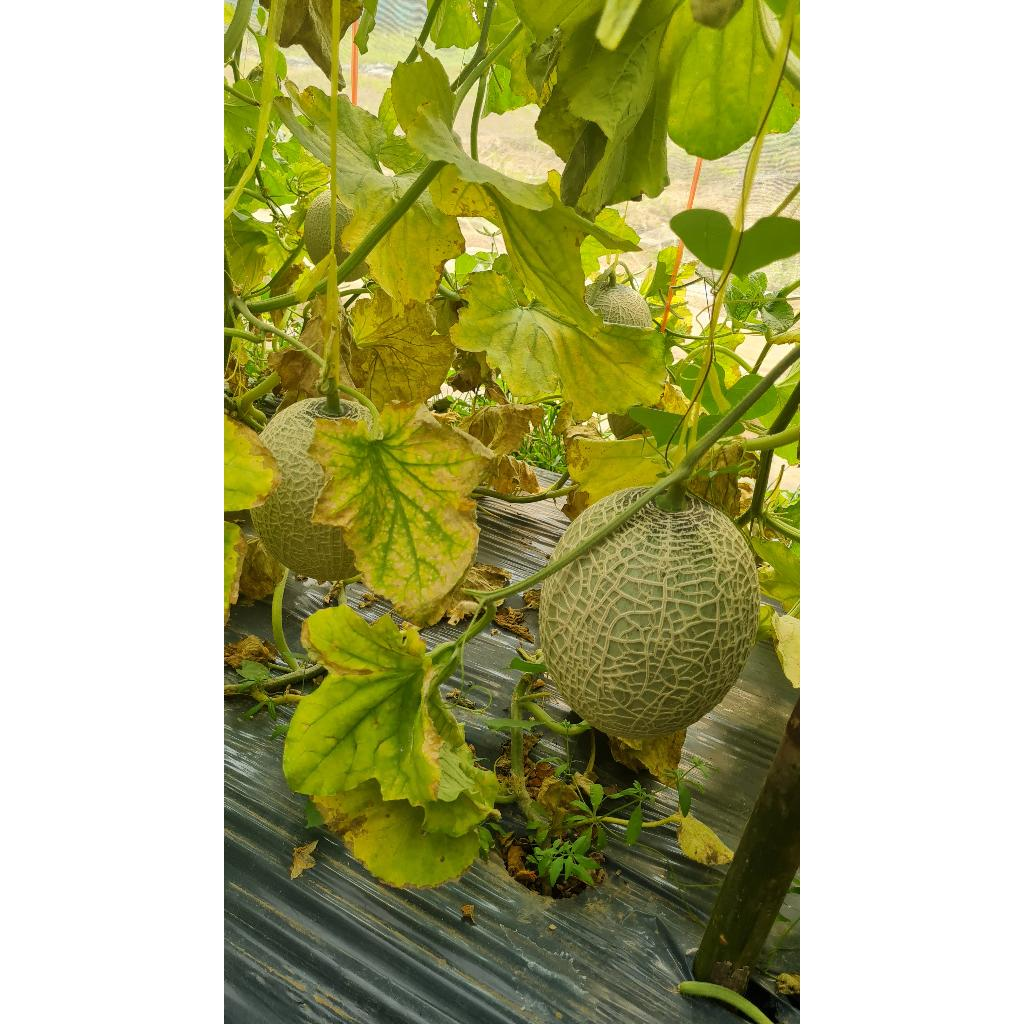melon: (540, 496, 760, 740), (250, 398, 358, 582), (552, 488, 646, 560)
